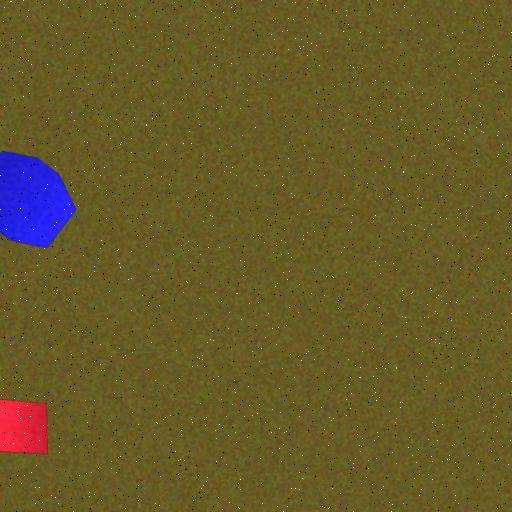RED_SQUARE: (0, 398, 48, 455)
